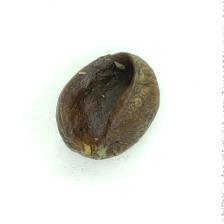NG: (56, 51, 140, 152)
